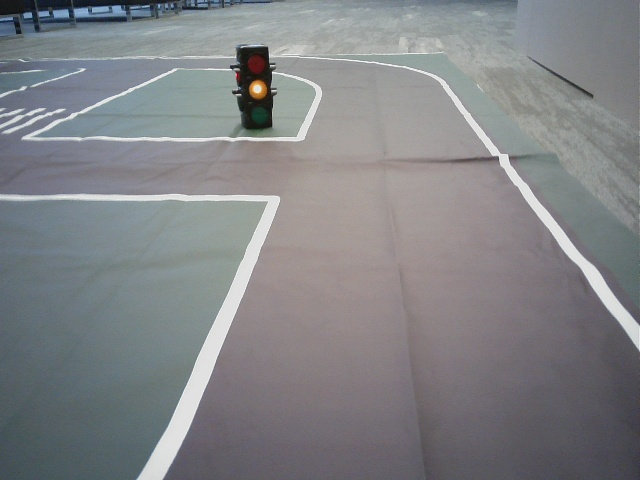yellow: (242, 47, 269, 125)
